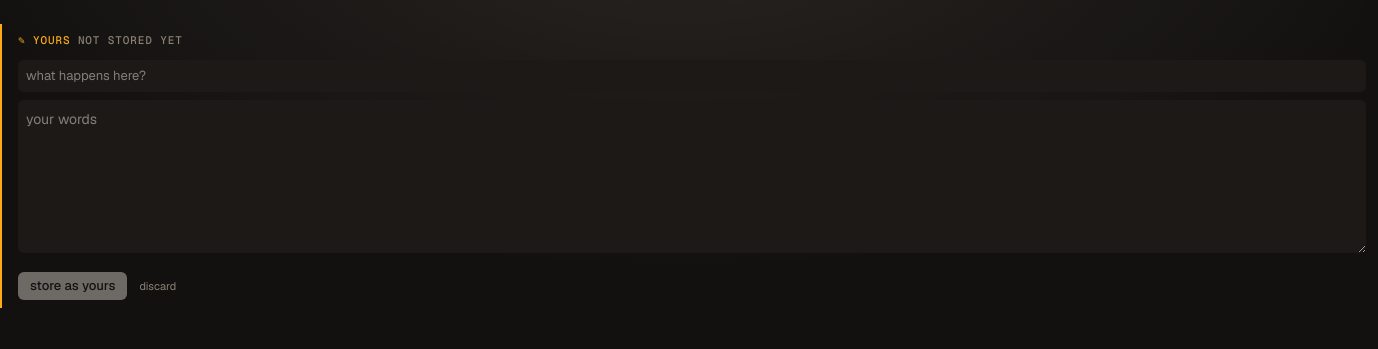
Scenario: WriteBlock › says what went wrong and keeps the words when the store refuses
In the text box with placeholder "your words": (692, 176) [18,100,1366,252], type "She goes quiet."
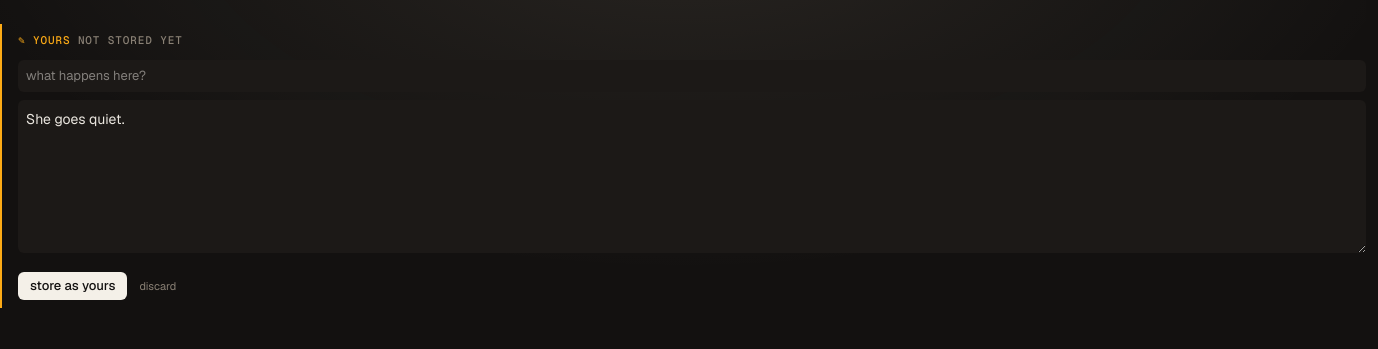
Click the button "store as yours": (73, 286) [18,272,128,300]
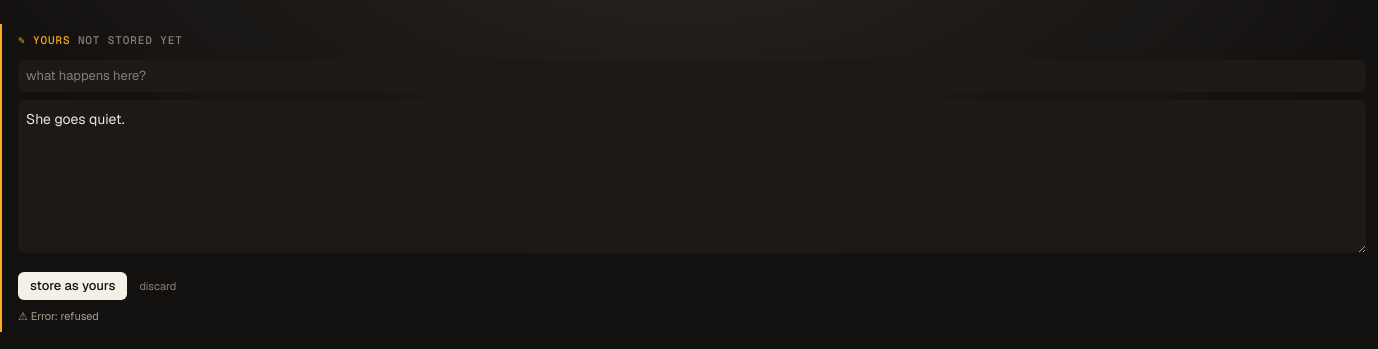
Expected: the text "⚠ Error: refused" is shown, [18,308,99,322]
